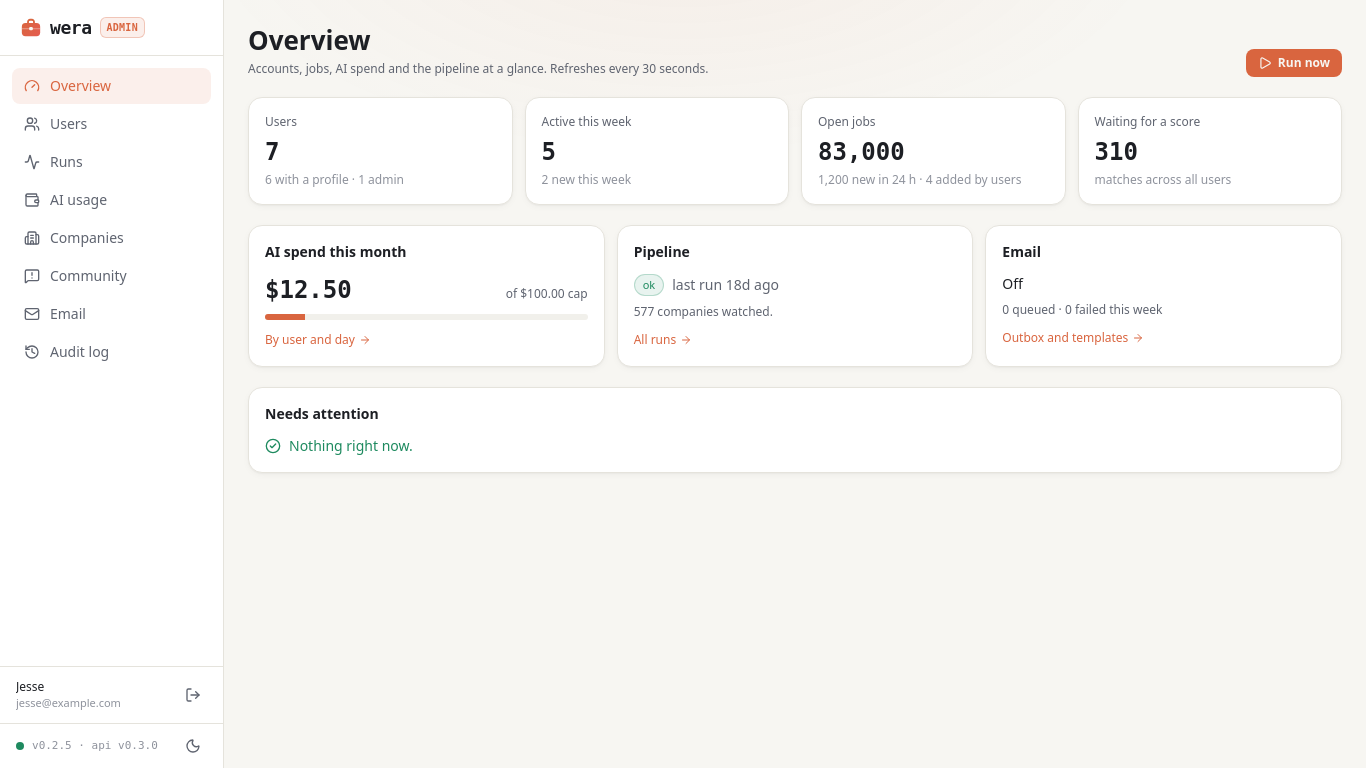
Scenario: OverviewPage › navigates from the sidebar
Expected: the heading "Overview" is shown, x1=248 y1=22 x2=370 y2=58
Click the link "Audit log" at (67, 352), box x1=24 y1=342 x2=109 y2=361
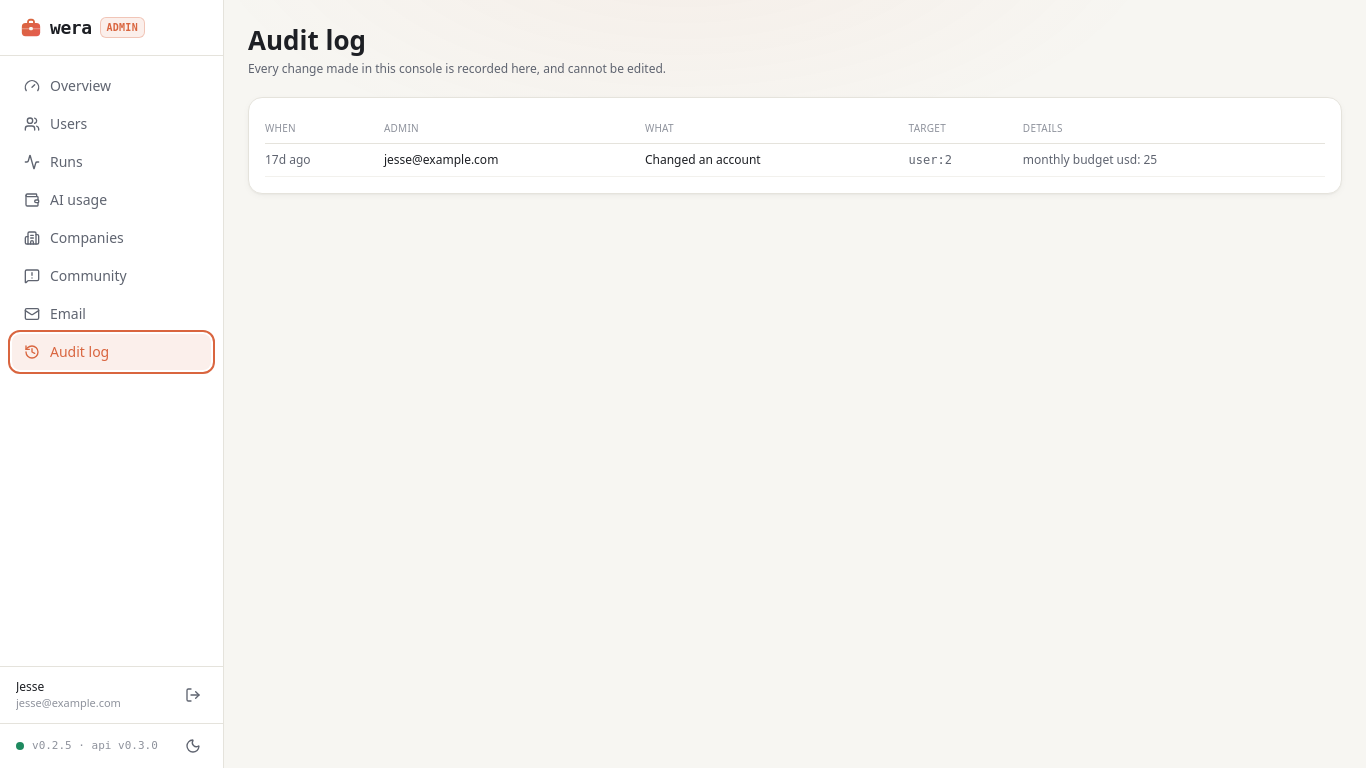
Result: the heading "Audit log" is shown at x1=248 y1=22 x2=366 y2=58
